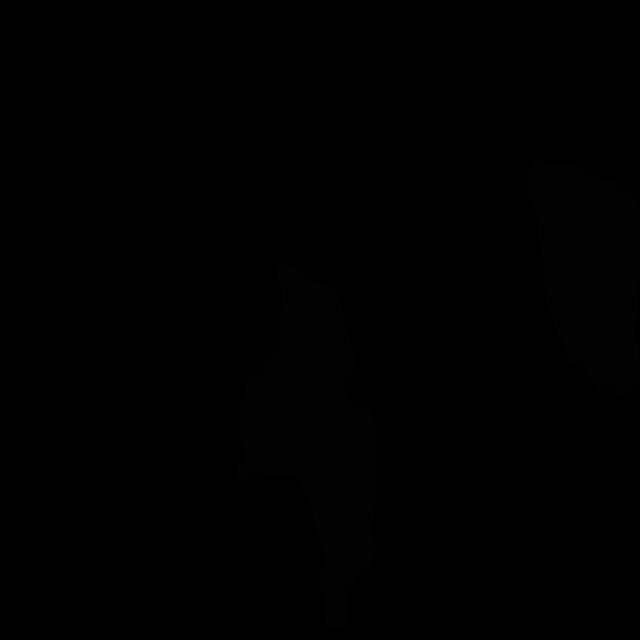cardboard: (236, 263, 377, 633), (526, 159, 640, 399)
